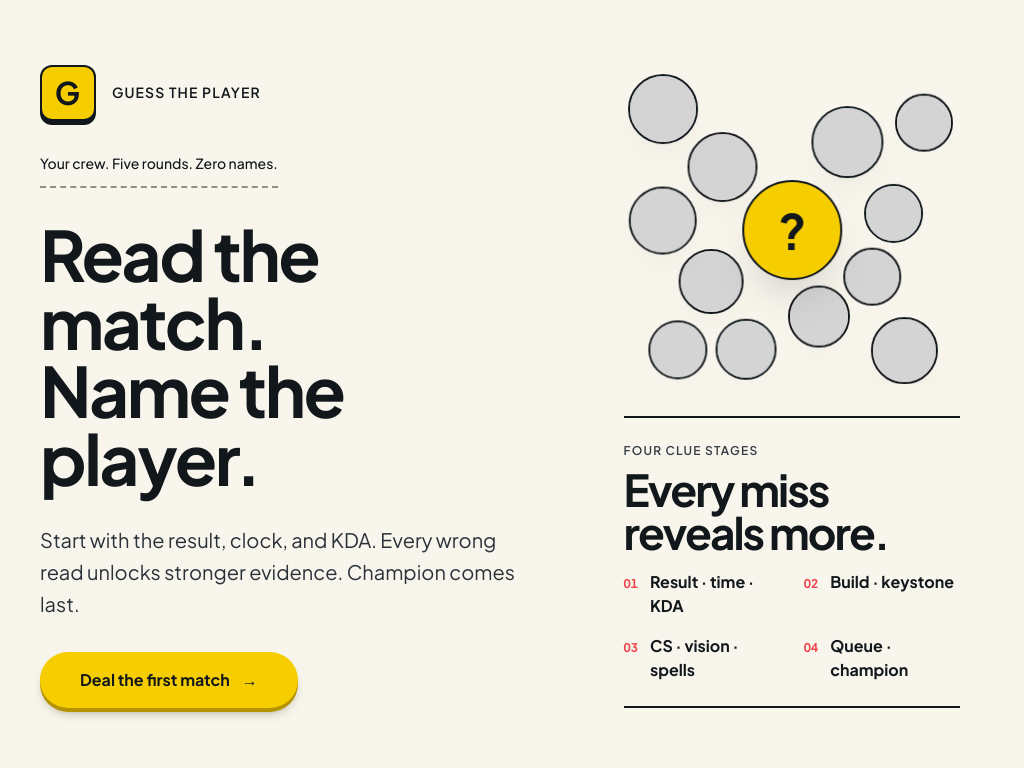
Test: keeps the round open and unlocks clues after a wrong guess
Click the button "Deal the first match →".
click(169, 680)  # box [40,652,298,708]
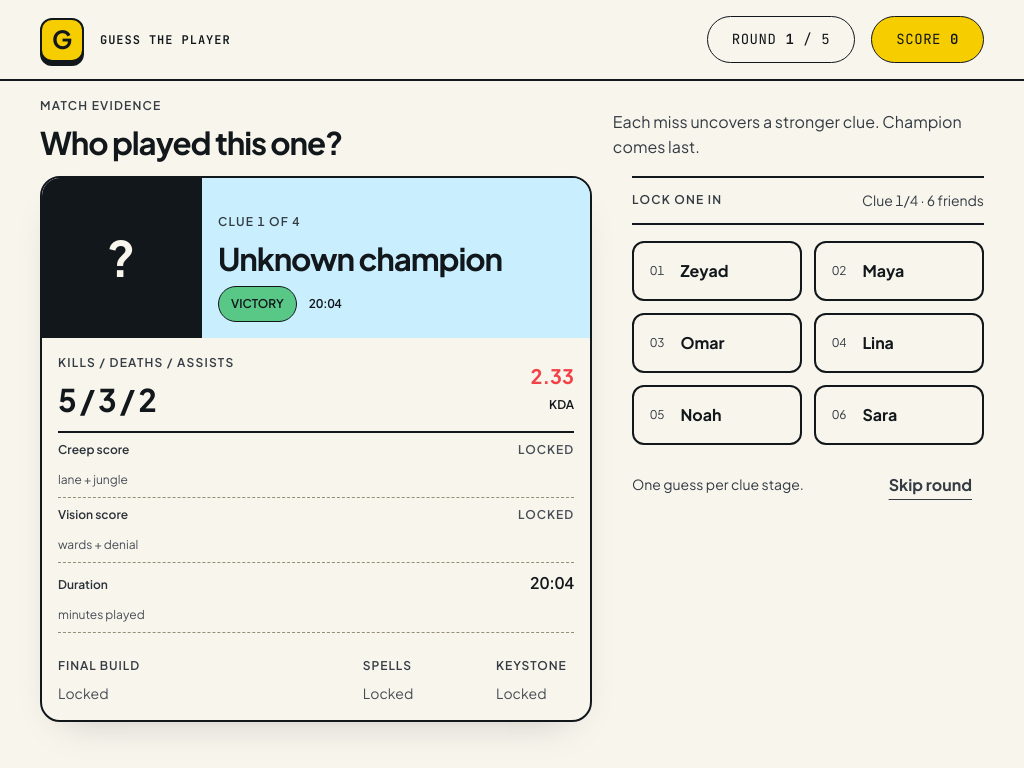
Click the button "02 Maya".
click(899, 271)  # box [814,241,984,301]
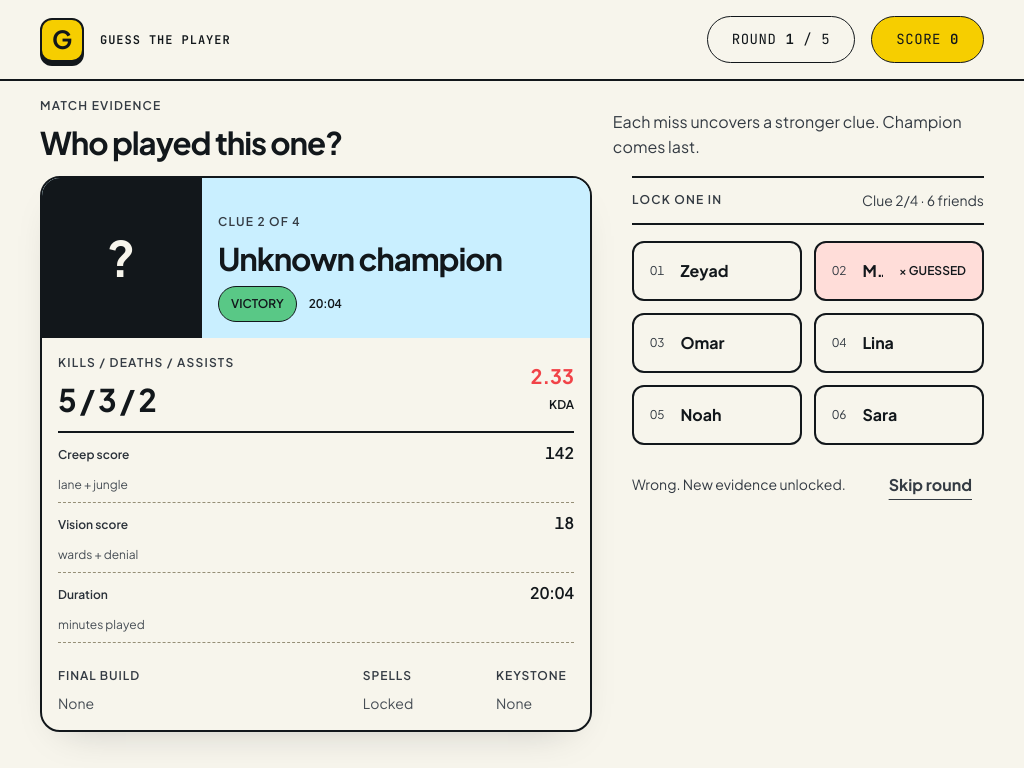
Check: the text "Wrong. New evidence unlocked." is shown, box [632,474,846,495]
Check: the text named "Wrong answer" is shown, box [899,262,966,280]
Check: the text "Clue 2/4 · 6 friends" is shown, box [862,190,984,211]
